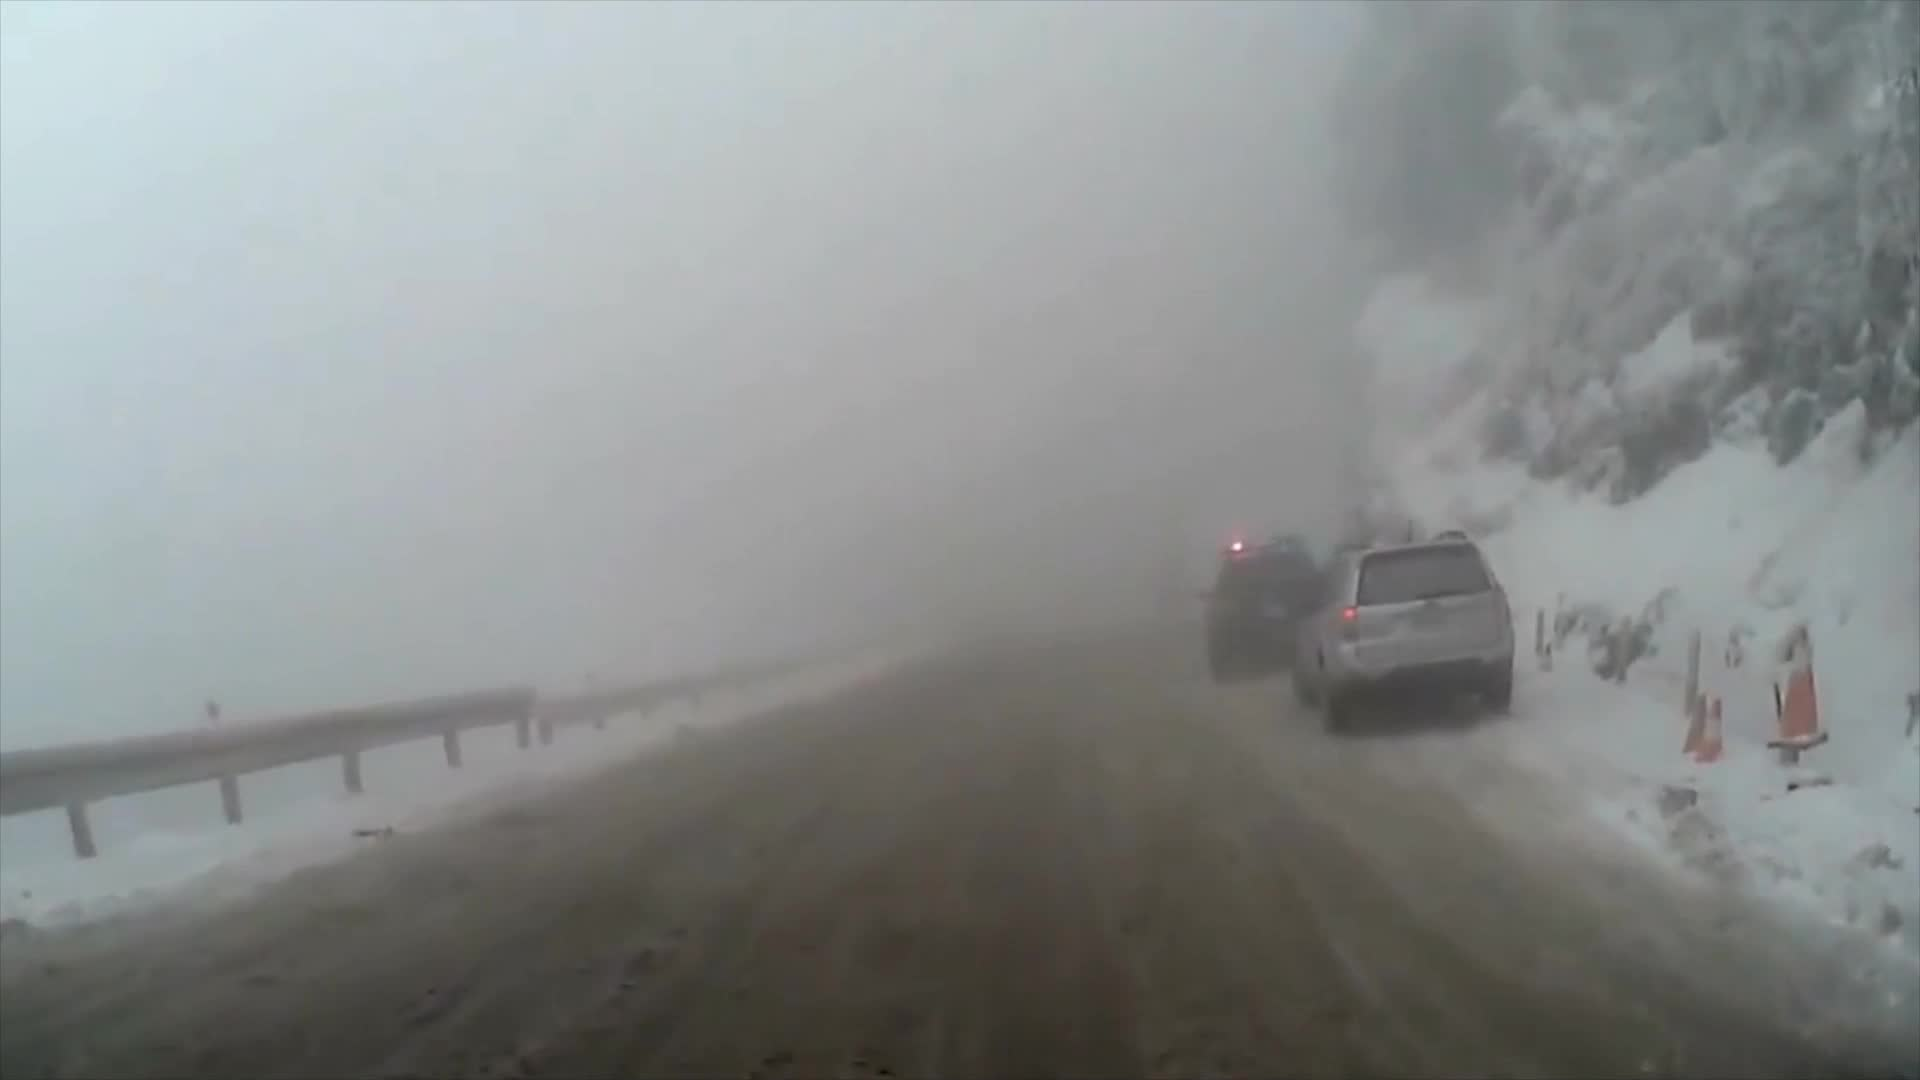vehicle: (1288, 530, 1514, 735), (1192, 535, 1333, 686)
